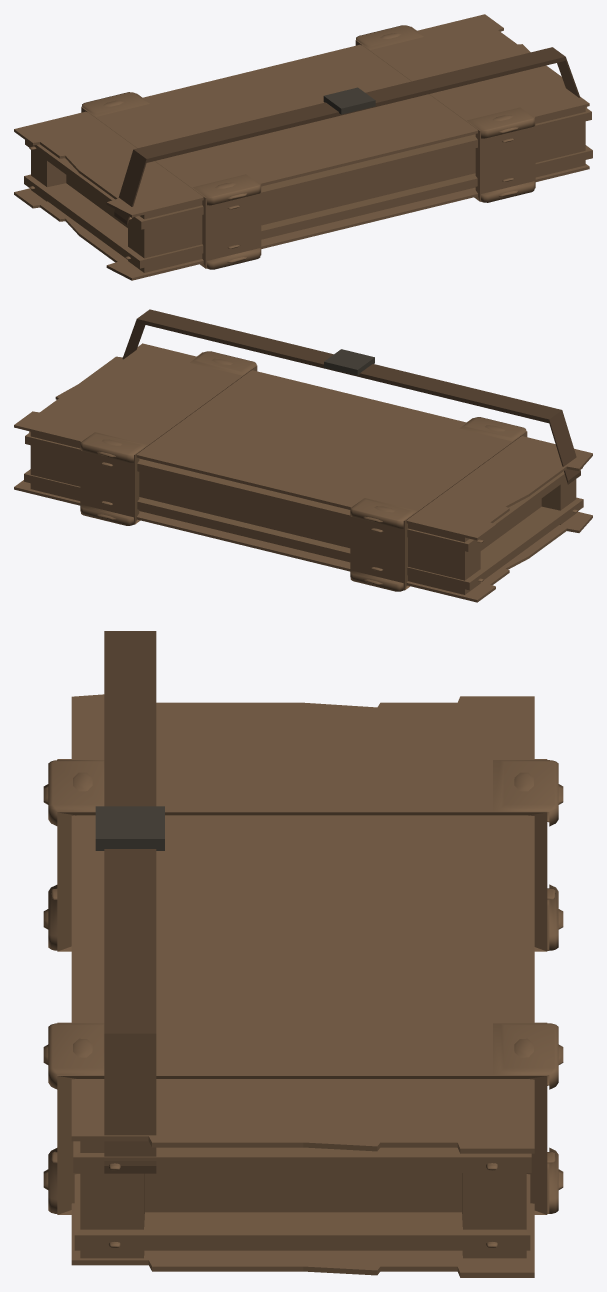
File: station_nera.glb
3 views of the same model, one above another, from view 1: azimuth 30°, elevation 25°; view 2: azimuth 150°, elevation 25°; view 3: azimuth 270°, elevation 25° (orthographic). The views are drawn at different scales.
Parts seen in each view (by area): view 1: RetainedReliefCrate, WorkContactPart, AttachedBuckle; view 2: RetainedReliefCrate, WorkContactPart, AttachedBuckle; view 3: RetainedReliefCrate, WorkContactPart, AttachedBuckle.
Boxes of the visible parts, x1=… form: RetainedReliefCrate: x1=14, y1=14, x2=592, y2=280; WorkContactPart: x1=114, y1=47, x2=580, y2=225; AttachedBuckle: x1=323, y1=87, x2=375, y2=114; RetainedReliefCrate: x1=14, y1=343, x2=592, y2=602; WorkContactPart: x1=122, y1=309, x2=580, y2=484; AttachedBuckle: x1=324, y1=349, x2=374, y2=375; RetainedReliefCrate: x1=43, y1=694, x2=563, y2=1277; WorkContactPart: x1=104, y1=631, x2=156, y2=1173; AttachedBuckle: x1=95, y1=806, x2=164, y2=850.
Size of the model in its own units: 0.5 by 0.12 by 0.24.
